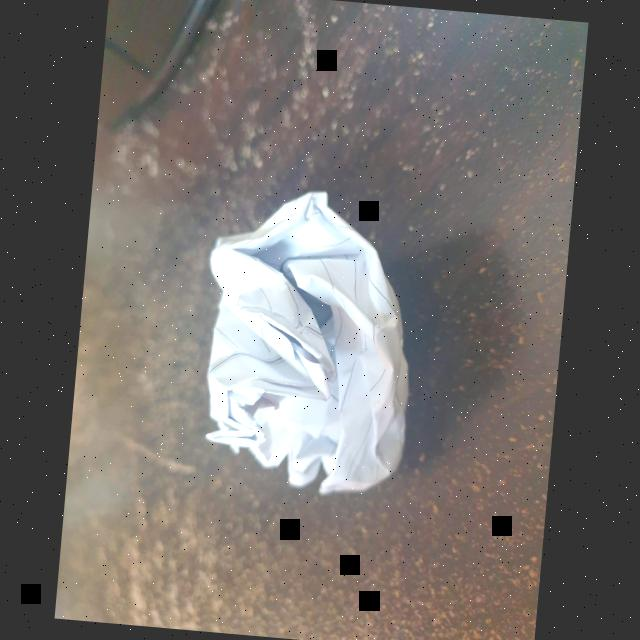scrap_paper: (178, 174, 430, 516)
